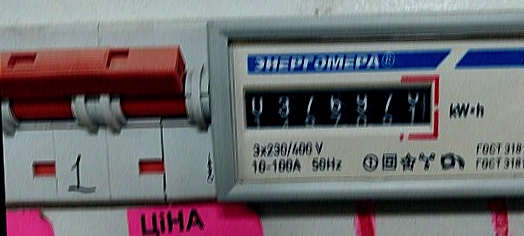0: (245, 92, 260, 115)
1: (403, 103, 415, 124)
3: (273, 95, 288, 117)
6: (324, 89, 340, 112)
7: (298, 91, 314, 116), (376, 89, 392, 113)
9: (350, 90, 365, 112)
screen: (230, 64, 443, 149)
